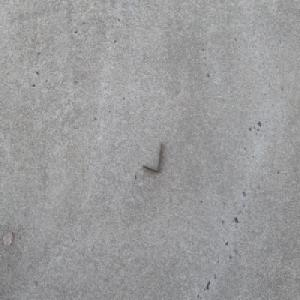MetalPart: (142, 139, 163, 173)
